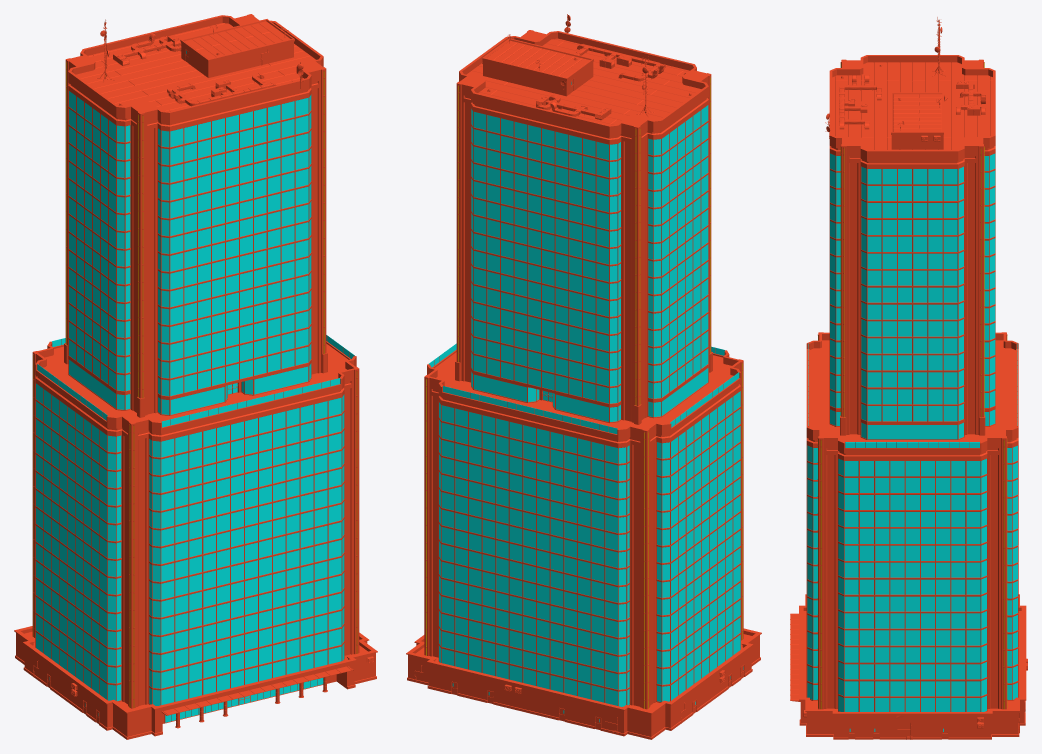
Rendered from SM_Skyscraper_D_City.fbx.
3 views of the same model, side by side, from view 1: azimuth 30°, elevation 25°; view 2: azimuth 150°, elevation 25°; view 3: azimuth 270°, elevation 25° (orthographic). The views are drawn at different scales.
Visible parts, largest first — view 1: SM_Skyscraper_D_City; view 2: SM_Skyscraper_D_City; view 3: SM_Skyscraper_D_City.
Part boxes in pixels (left/top/right/bottom): SM_Skyscraper_D_City: left=14, top=14, right=377, bottom=739; SM_Skyscraper_D_City: left=406, top=14, right=761, bottom=739; SM_Skyscraper_D_City: left=790, top=17, right=1027, bottom=739.
Size of the model in its own units: 46.94 by 111 by 38.21.
